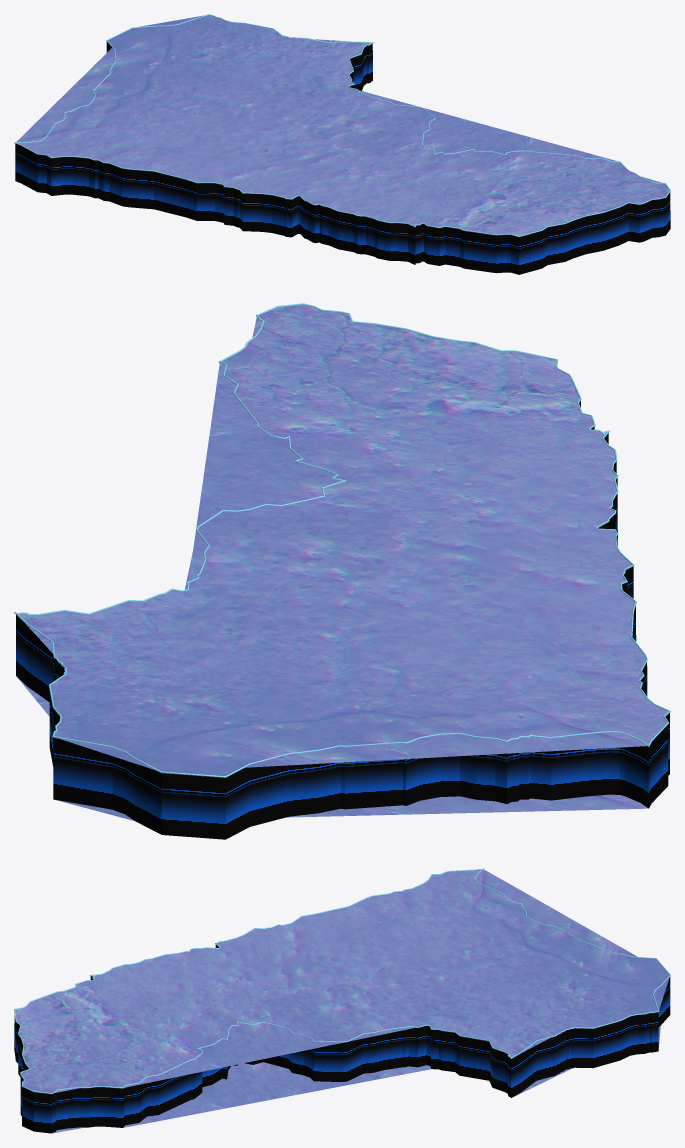
3 renders of one model, top to bottom at view 1: azimuth 30°, elevation 25°; view 2: azimuth 150°, elevation 25°; view 3: azimuth 270°, elevation 25°, orthographic. The views are drawn at different scales.
Parts seen in each view (by area): view 1: 挤压, 边缘; view 2: 挤压, 边缘; view 3: 挤压, 边缘.
Part boxes in pixels (bbox=[...]): 挤压: bbox=[15, 15, 670, 274]; 边缘: bbox=[14, 14, 670, 236]; 挤压: bbox=[16, 304, 669, 839]; 边缘: bbox=[14, 303, 670, 777]; 挤压: bbox=[14, 869, 670, 1133]; 边缘: bbox=[14, 868, 670, 1094].
Size of the model in its own units: 244 by 21.78 by 299.
3 materials, 2 textured.
